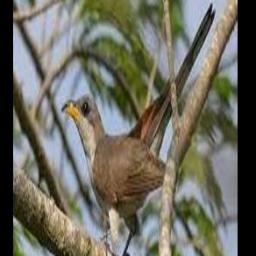Cuckoo: (60, 3, 215, 256)
